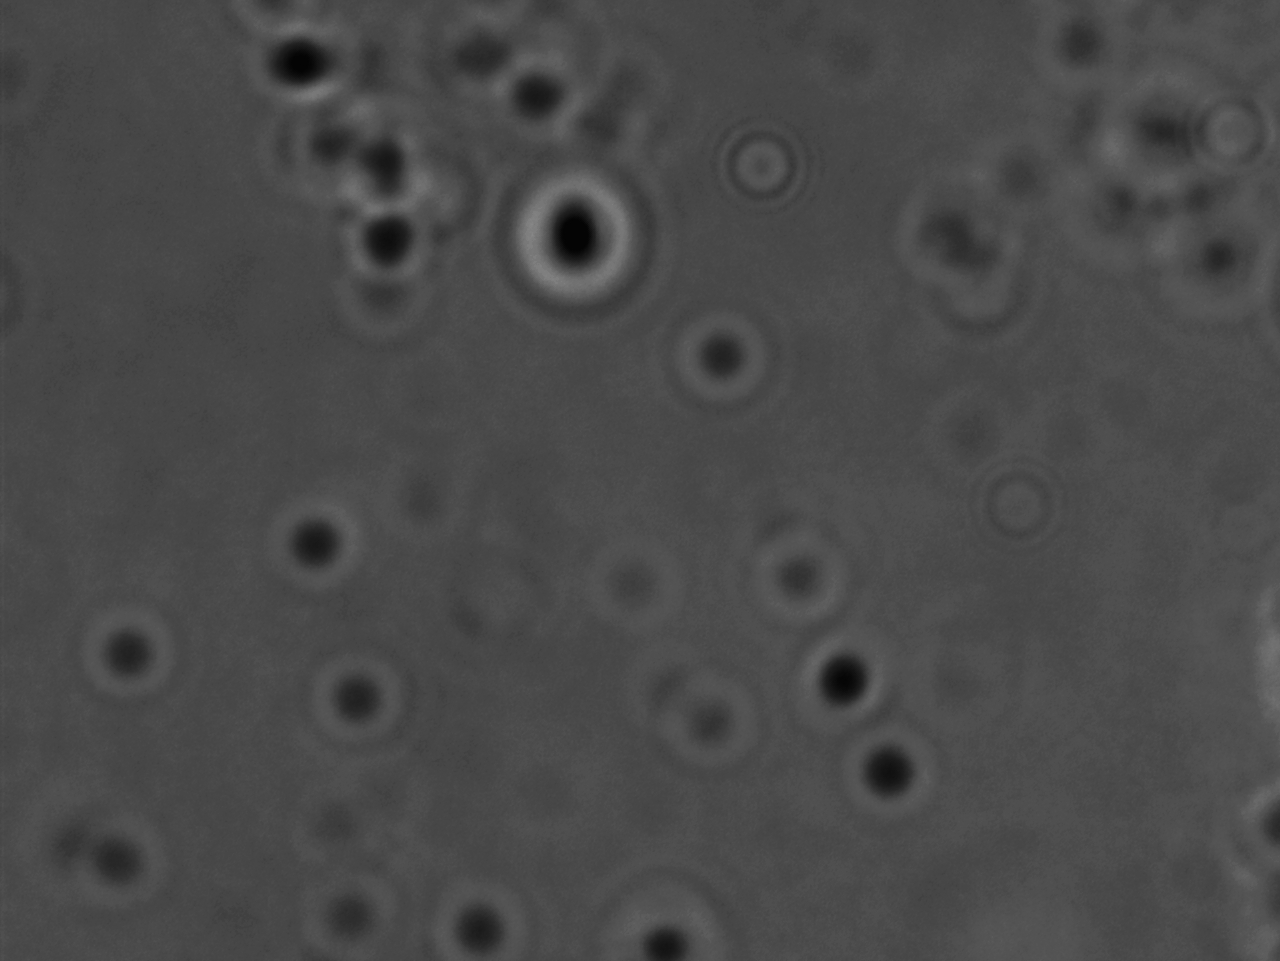depth:-32: (486, 151, 689, 349)
